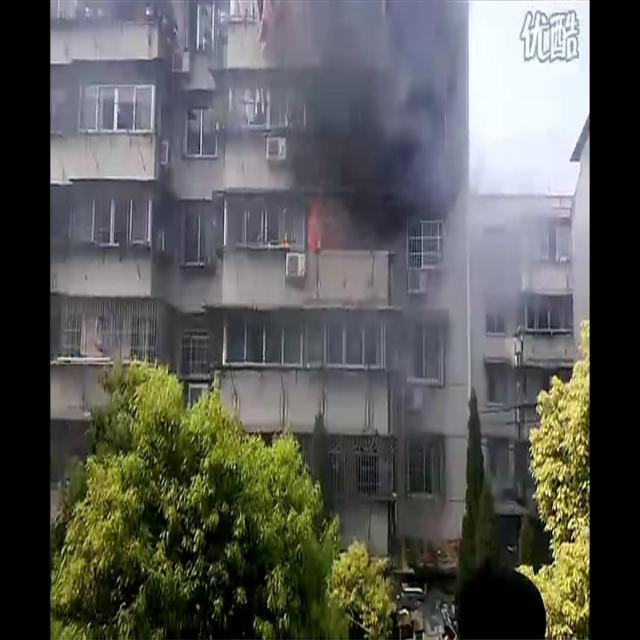Fire: (306, 202, 327, 252)
Smoke: (270, 0, 471, 201), (440, 158, 546, 330)
